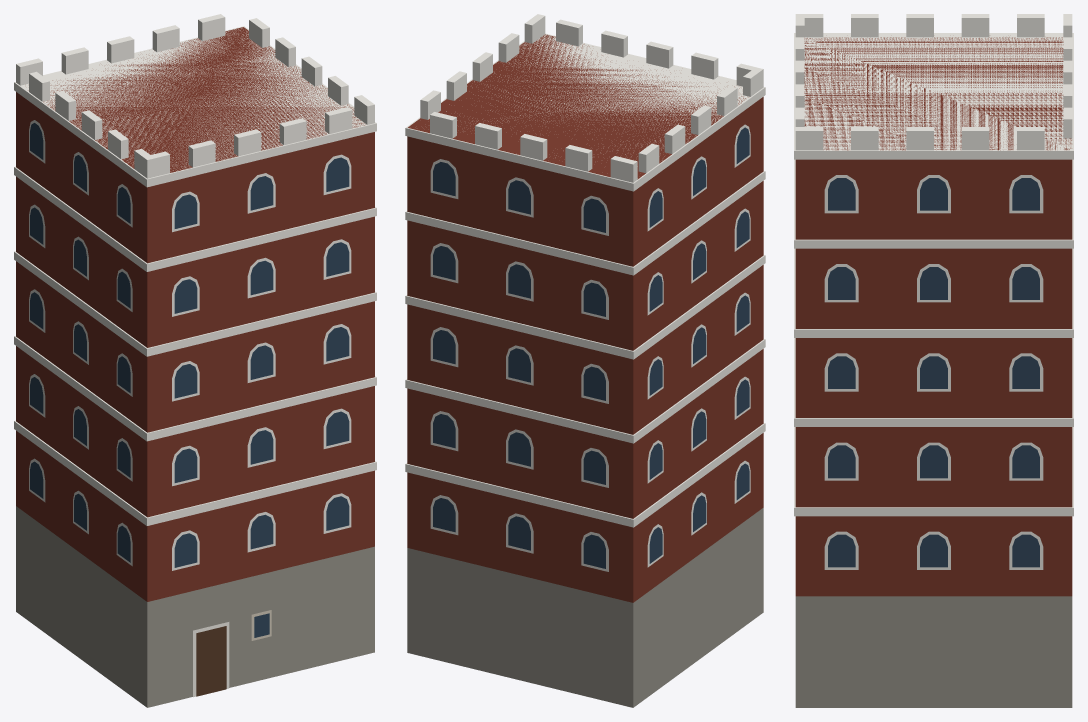
The model's file is maison_tour_yemen.glb.
The picture shows the model from 3 angles, left to right: view 1: azimuth 30°, elevation 25°; view 2: azimuth 150°, elevation 25°; view 3: azimuth 270°, elevation 25°; orthographic projection. The views are drawn at different scales.
Parts seen in each view (by area): view 1: maison_tour_yemen; view 2: maison_tour_yemen; view 3: maison_tour_yemen.
Boxes of the visible parts, x1,y1,x2,y2 form: maison_tour_yemen: (14, 14, 376, 707); maison_tour_yemen: (405, 14, 765, 707); maison_tour_yemen: (794, 14, 1073, 707).
Bounding box in the file's own units: 9.1 × 20.7 × 9.1.
1 material, 1 textured.
